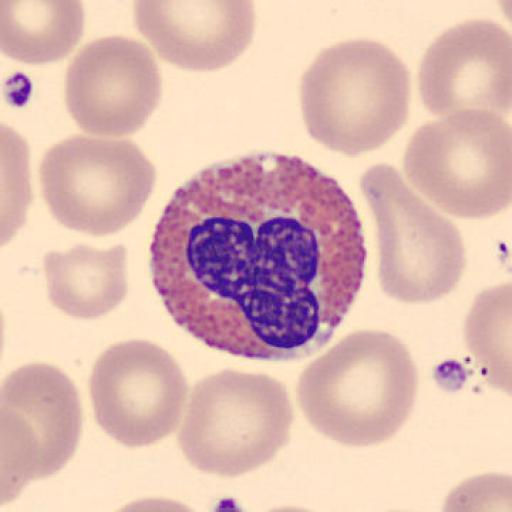Platelet: (208, 493, 250, 512)
RBC: (358, 166, 468, 307), (295, 327, 420, 450), (297, 37, 413, 159), (176, 366, 296, 480), (37, 132, 158, 238), (402, 105, 512, 221), (87, 336, 190, 450), (416, 16, 512, 129), (62, 34, 164, 140), (2, 360, 85, 482), (132, 1, 259, 74), (42, 240, 130, 322), (462, 279, 512, 397), (1, 1, 87, 67), (0, 120, 33, 250), (0, 407, 38, 510), (439, 469, 511, 512), (99, 493, 211, 512), (244, 502, 341, 512), (495, 0, 512, 38), (492, 0, 512, 23)
WBC: (144, 154, 369, 360)
